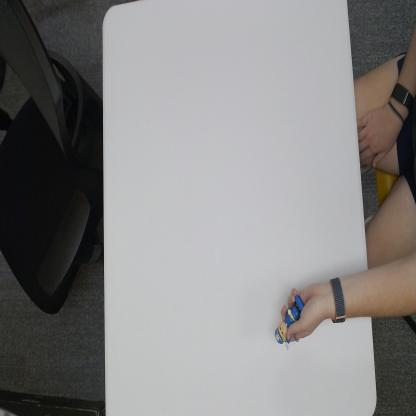Hand: (280, 280, 328, 343)
